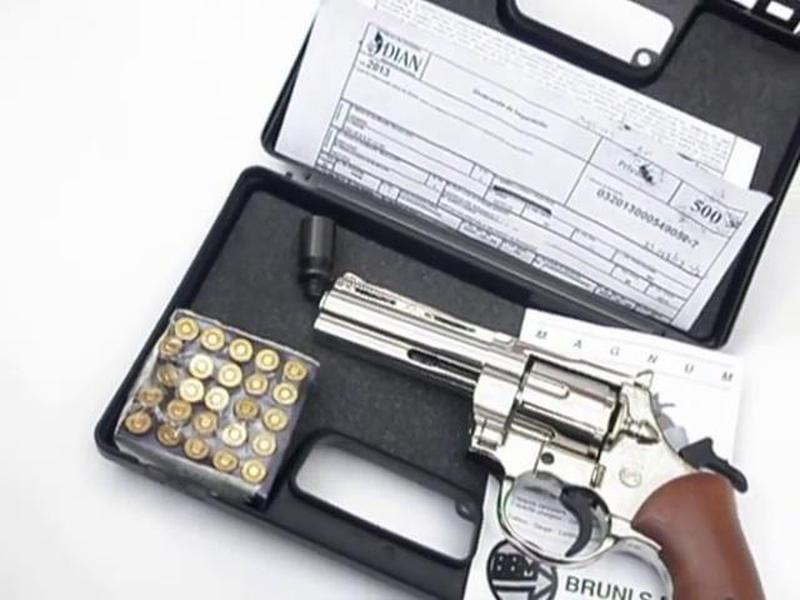Revolver: (309, 255, 763, 600)
